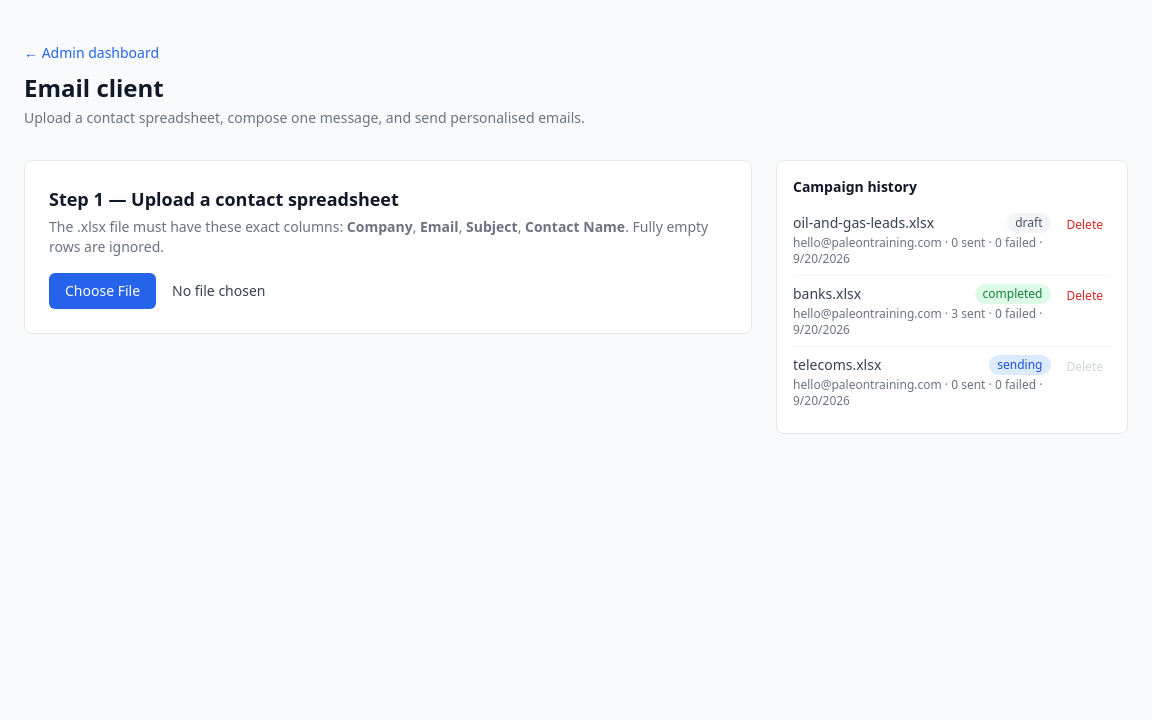
it: EmailClientPage — deleting campaigns › shows the server's message when deletion fails
This screenshot has width=1152, height=720.
Step 1. Click the button with aria-label "Delete campaign oil-and-gas-leads.xlsx" → [1085, 225], box [1058, 213, 1111, 237]
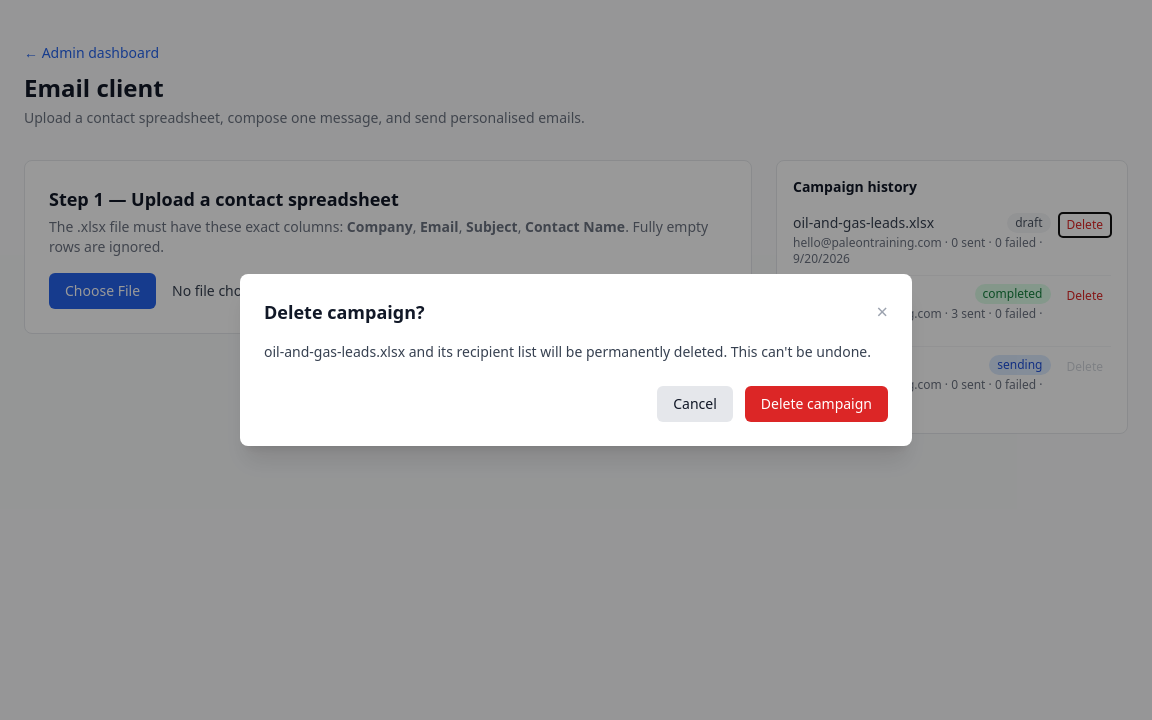
Step 2. Click the button "Delete campaign" → [816, 404], box [745, 386, 888, 422]
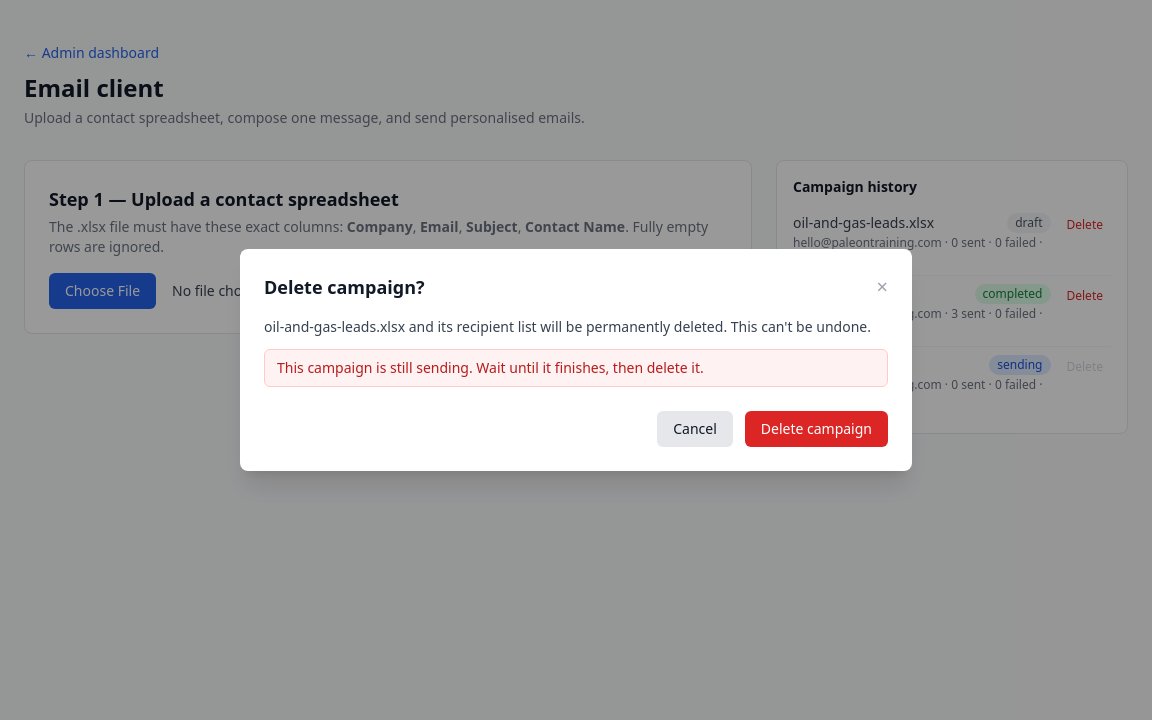
Expected: the button with aria-label "Delete campaign oil-and-gas-leads.xlsx" is shown, [1058, 213, 1111, 237]
Expected: the heading "Delete campaign?" is shown, [264, 273, 425, 301]
Expected: the text "still sending" is shown, [277, 358, 704, 377]
